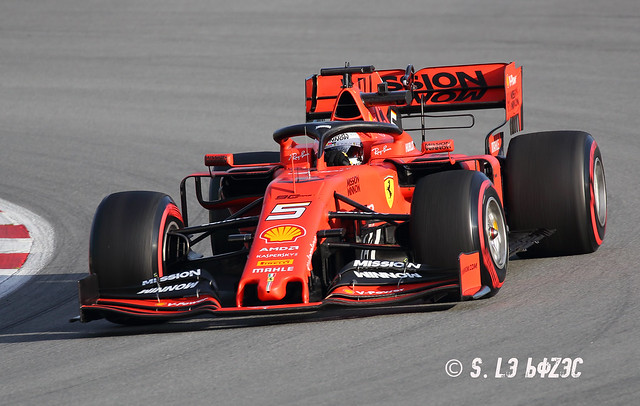F1 Car: (76, 58, 612, 324)
